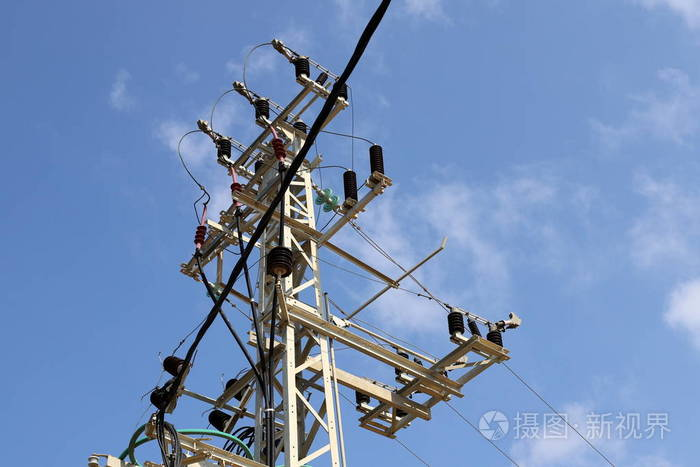insulator: (312, 188, 339, 214)
